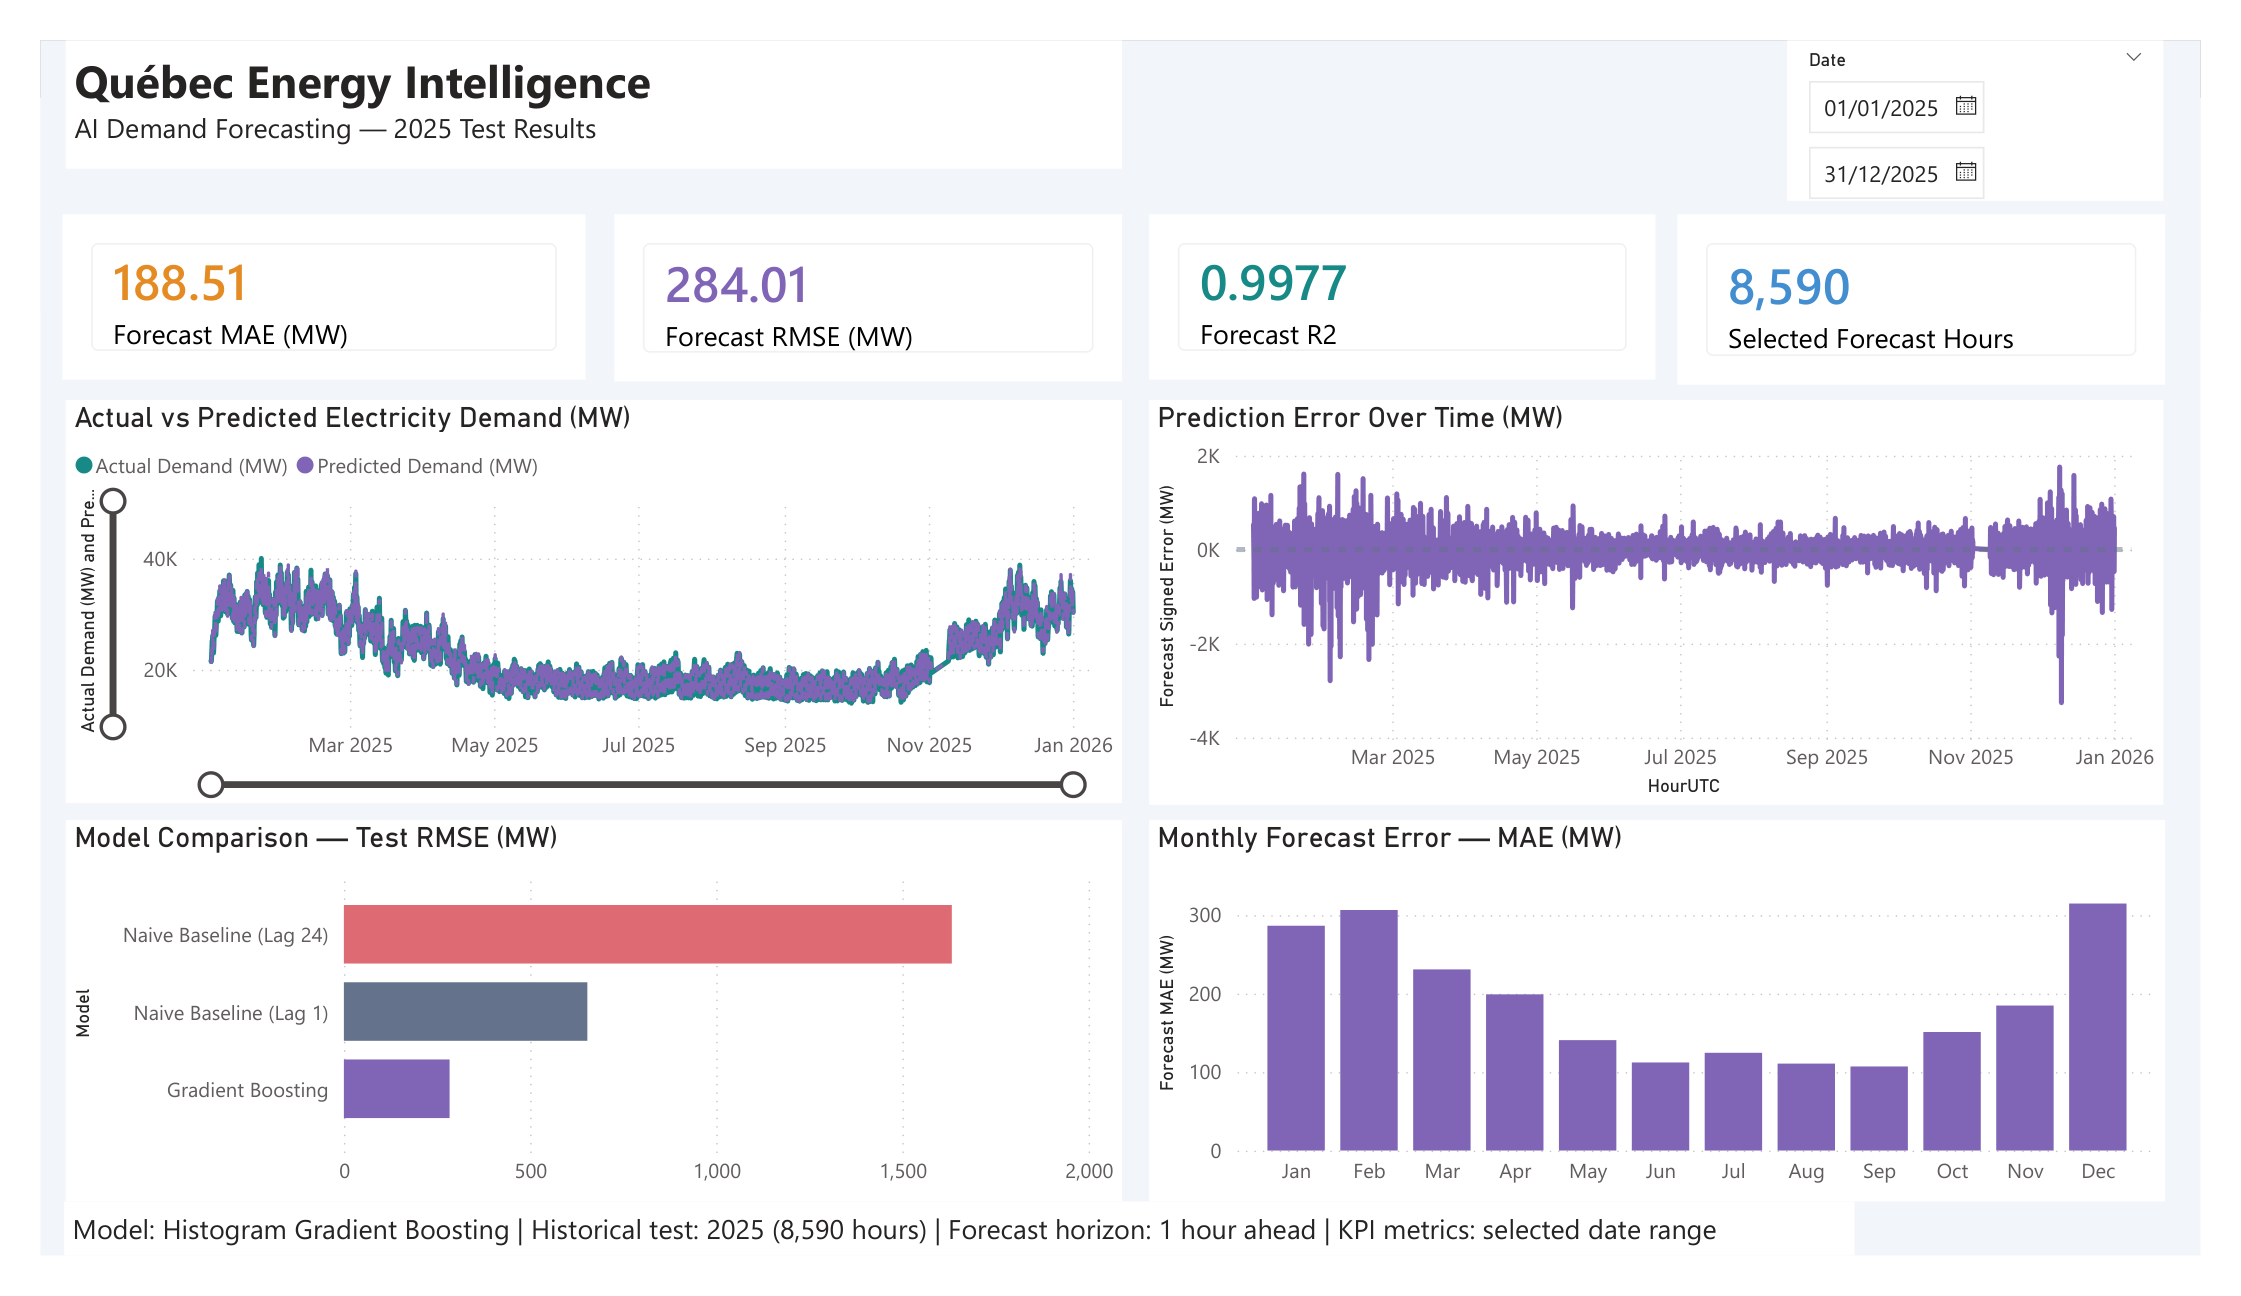

This screenshot's page, from the dashboard's own definition file:
{"tool":"powerbi","page":{"name":"AI Demand Forecasting","canvas":[1280,720],"ordinal":3},"visuals":[{"type":"textbox","box":[15,0,626.2,76.2],"z":0},{"type":"lineChart","title":"Actual vs Predicted Electricity Demand (MW)","fields":{"Y":["_Measures.Actual Demand (MW)","_Measures.Predicted Demand (MW)"],"Category":["Energy_Forecast_2025.HourUTC"]},"box":[14.7,213.1,625.9,238.6],"z":1000},{"type":"cardVisual","fields":{"Data":["_Measures.Forecast MAE (MW)"]},"box":[13.4,103.2,309.6,97.8],"z":2000},{"type":"cardVisual","fields":{"Data":["_Measures.Forecast RMSE (MW)"]},"box":[340.4,103.2,300.2,99.2],"z":3000},{"type":"cardVisual","fields":{"Data":["_Measures.Forecast R2"]},"box":[656.8,103.2,300.2,97.8],"z":4000},{"type":"cardVisual","fields":{"Data":["_Measures.Forecast Test Hours Display"]},"box":[970.4,103.2,288.2,100.5],"z":5000},{"type":"clusteredBarChart","title":"Model Comparison — Test RMSE (MW)","fields":{"Category":["Model_Comparison_2025.Model"],"Y":["Sum(Model_Comparison_2025.RMSE)"]},"box":[14.7,462.4,625.9,225.2],"z":6000},{"type":"columnChart","title":"Monthly Forecast Error — MAE (MW)","fields":{"Category":["Energy_Forecast_2025.MonthShort"],"Y":["_Measures.Forecast MAE (MW)"]},"box":[656.8,462.4,601.8,225.2],"z":7000},{"type":"slicer","fields":{"Values":["Energy_Forecast_2025.FullDate"]},"box":[1035,0,222.5,95],"z":8000},{"type":"textbox","box":[14.2,688,1060.4,32.3],"z":9000},{"type":"lineChart","title":"Prediction Error Over Time (MW)","fields":{"Category":["Energy_Forecast_2025.HourUTC"],"Y":["_Measures.Forecast Signed Error (MW)"]},"box":[656.9,213.4,601.3,239.2],"z":10000}]}

Visuals, with their boxes in screenshot pixels (x1, y1, x2, y2), scaled from the page's 1280x720 canvas onto the 2241x1296 screenshot:
textbox: left=26, top=0, right=1123, bottom=137
"Actual vs Predicted Electricity Demand (MW)" lineChart: left=26, top=384, right=1122, bottom=813
cardVisual - _Measures.Forecast MAE (MW): left=23, top=186, right=566, bottom=362
cardVisual - _Measures.Forecast RMSE (MW): left=596, top=186, right=1122, bottom=364
cardVisual - _Measures.Forecast R2: left=1150, top=186, right=1675, bottom=362
cardVisual - _Measures.Forecast Test Hours Display: left=1699, top=186, right=2204, bottom=367
"Model Comparison — Test RMSE (MW)" clusteredBarChart: left=26, top=832, right=1122, bottom=1238
"Monthly Forecast Error — MAE (MW)" columnChart: left=1150, top=832, right=2204, bottom=1238
slicer - Energy_Forecast_2025.FullDate: left=1812, top=0, right=2202, bottom=171
textbox: left=25, top=1238, right=1881, bottom=1295
"Prediction Error Over Time (MW)" lineChart: left=1150, top=384, right=2203, bottom=815
